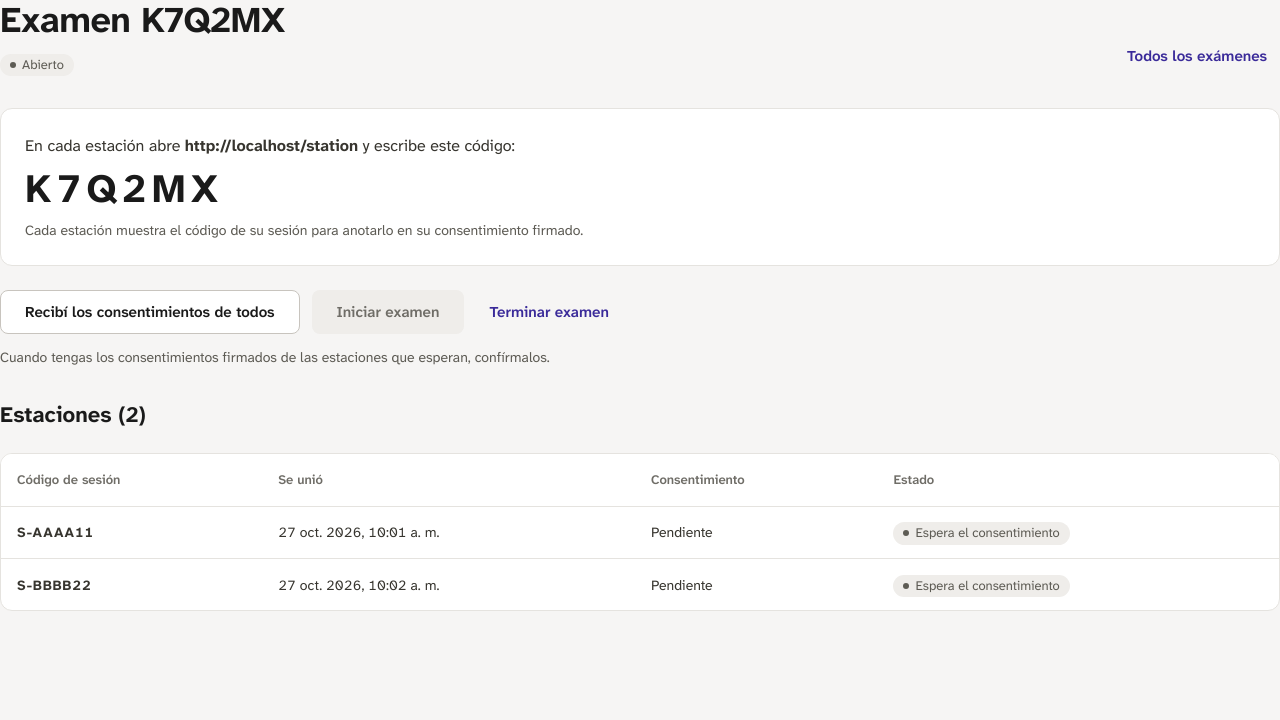
Test case: examen del docente › confirma los consentimientos de todos con un diálogo
What coordinates should you click on to do the following:
click the button "Recibí los consentimientos de todos"
I would click on:
 (150, 312)
Its box is [0, 290, 300, 334].
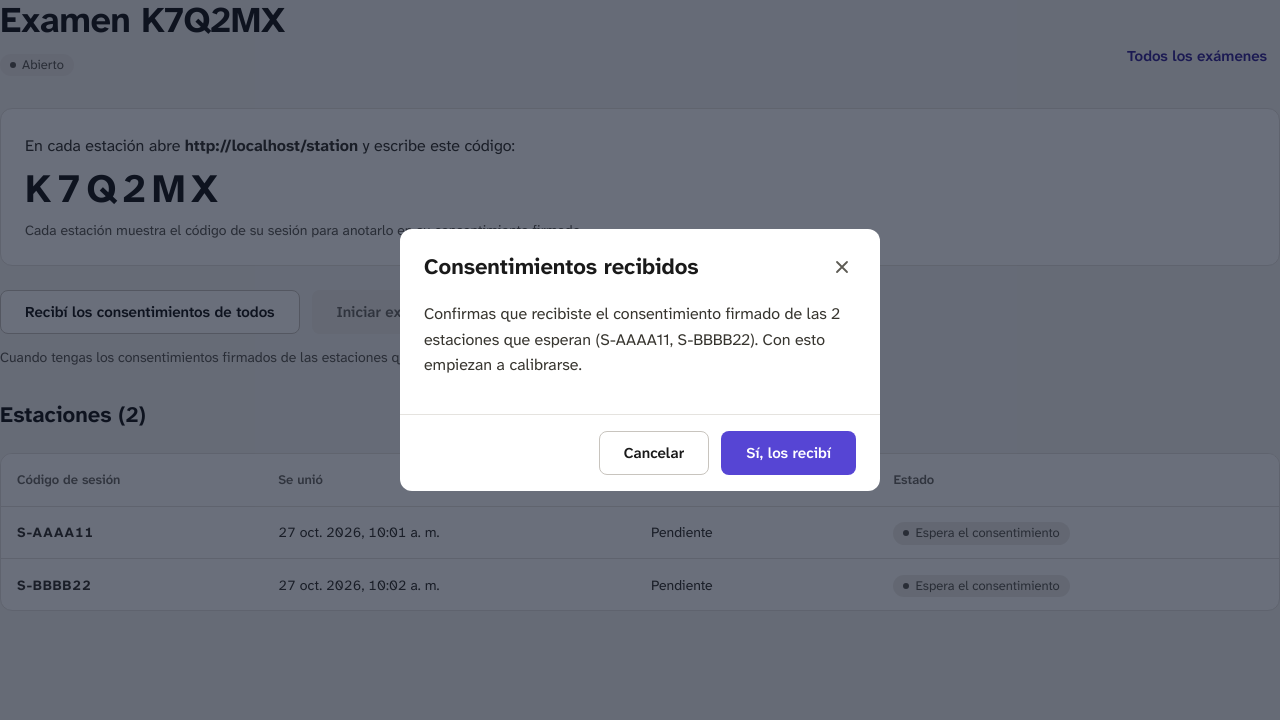
Expected: the text "las 2 estaciones que esperan (S-AAAA11, S-BBBB22)" is shown, [424, 303, 840, 375]
What coordinates should you click on to do the following:
click the button "Sí, los recibí"
I would click on:
 (789, 453)
Its box is [721, 431, 856, 475].
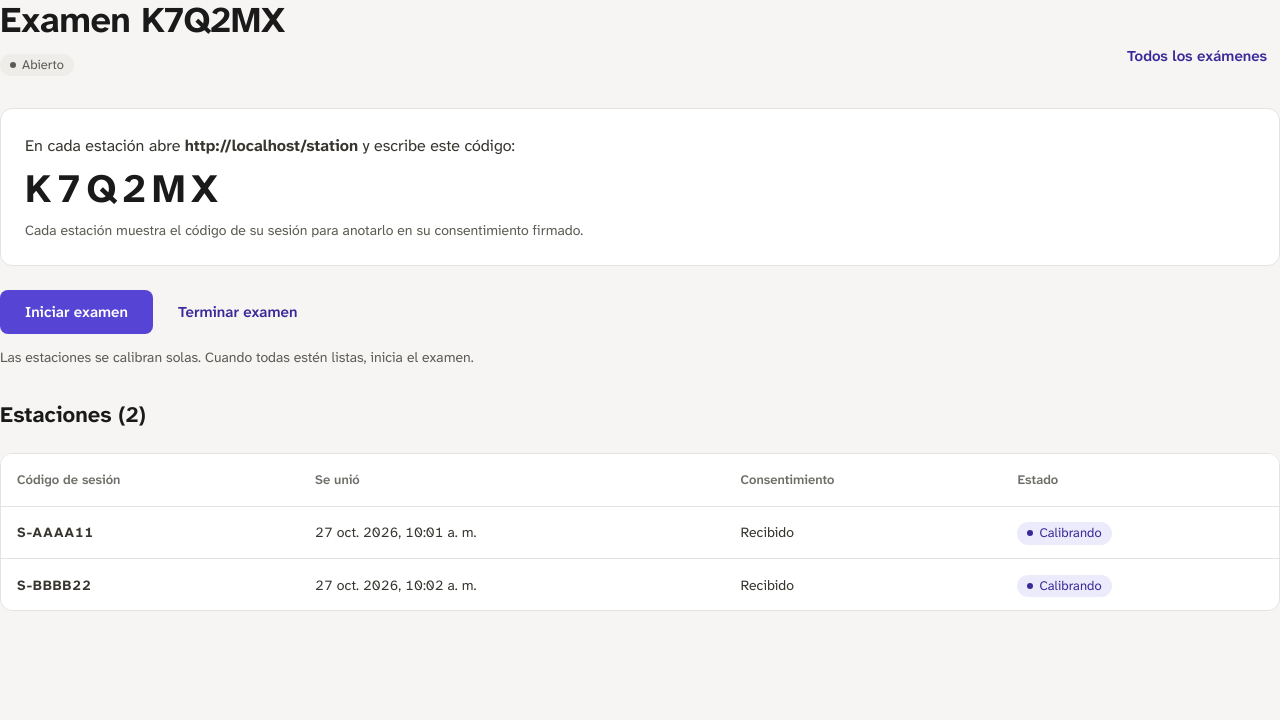
Expected: the text "Calibrando" is shown 2 times, [1017, 522, 1112, 544]; [1017, 575, 1112, 597]
Expected: the button "Iniciar examen" is enabled, [0, 290, 153, 334]
